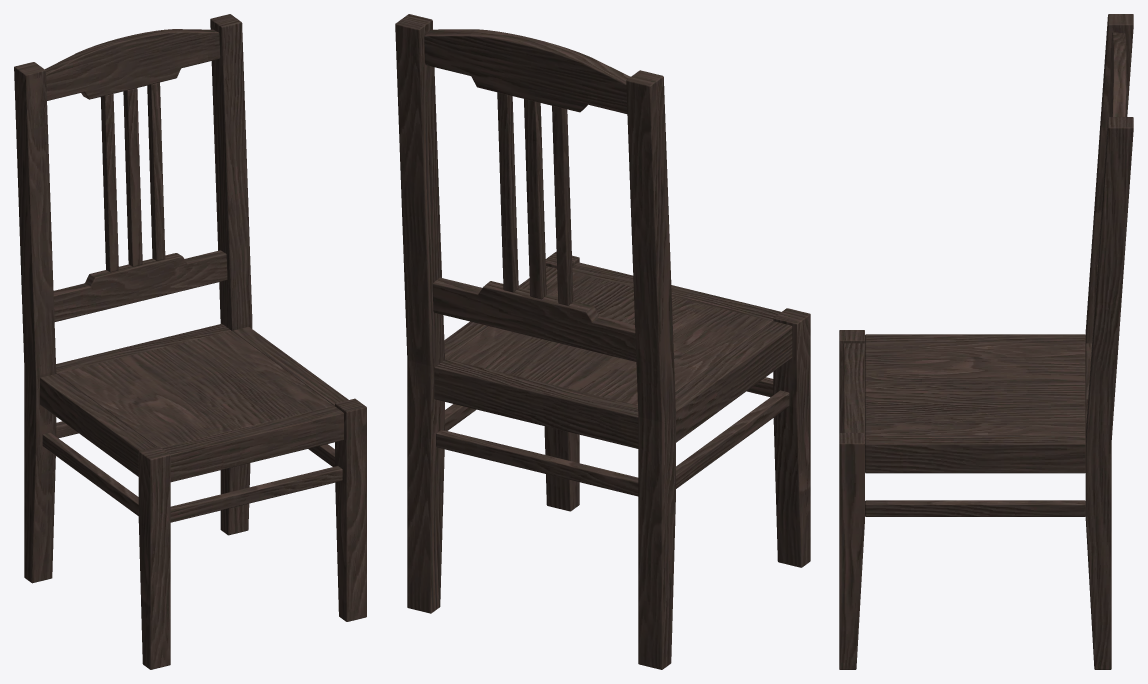
The model's file is wooden_chair.glb.
3 views of the same model, side by side, from view 1: azimuth 30°, elevation 25°; view 2: azimuth 150°, elevation 25°; view 3: azimuth 270°, elevation 25° (orthographic). The views are drawn at different scales.
Parts seen in each view (by area): view 1: Object_4; view 2: Object_4; view 3: Object_4.
Part boxes in pixels (bbox=[...]): Object_4: bbox=[14, 14, 366, 669]; Object_4: bbox=[395, 14, 810, 669]; Object_4: bbox=[839, 14, 1133, 669].
Size of the model in its own units: 0.4647 by 1.05 by 0.5075.
1 material, 1 textured.
